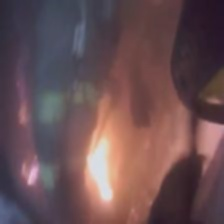fire: (81, 130, 119, 203)
